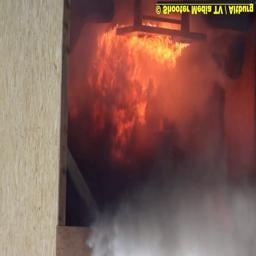fire: (66, 13, 223, 174)
